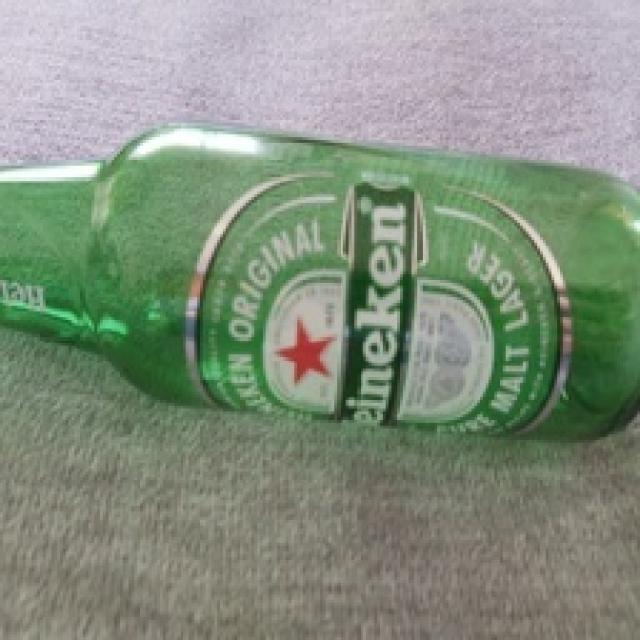Glass: (0, 124, 640, 442)
